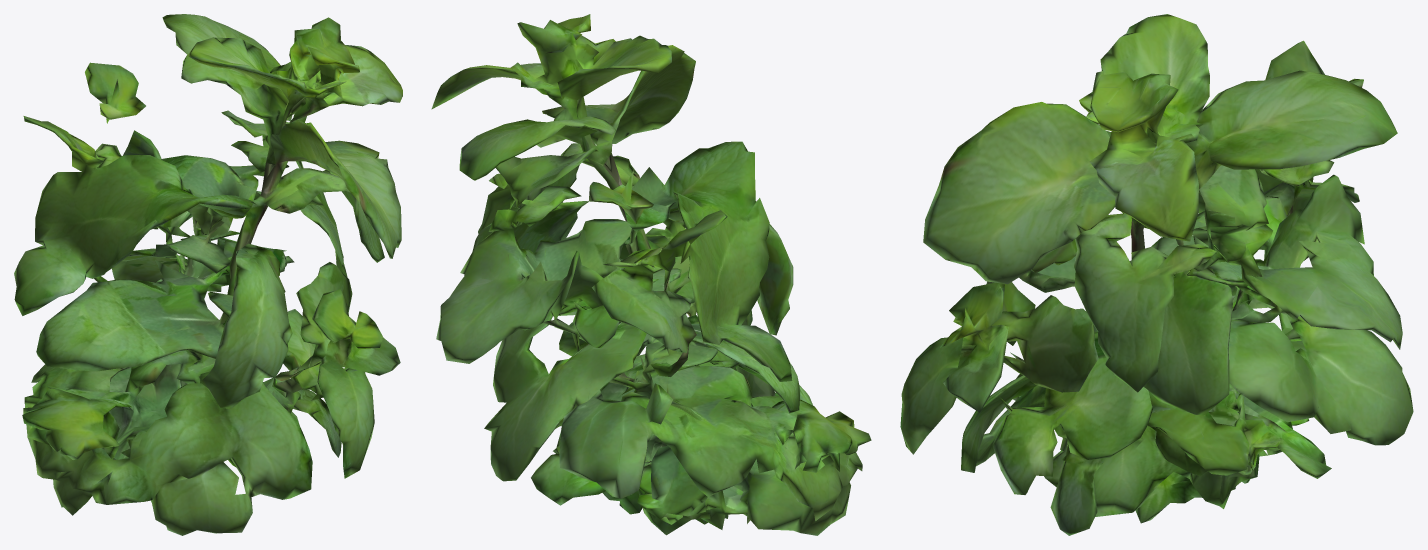
File: peppermint.glb
The picture shows the model from 3 angles, left to right: view 1: azimuth 30°, elevation 25°; view 2: azimuth 150°, elevation 25°; view 3: azimuth 270°, elevation 25°; orthographic projection. The views are drawn at different scales.
Parts seen in each view (by area): view 1: Object_4; view 2: Object_4; view 3: Object_4.
Part boxes in pixels (x1,y1,x2,y2): Object_4: [14, 14, 402, 535]; Object_4: [431, 14, 871, 535]; Object_4: [900, 14, 1413, 535].
Bounding box in the file's own units: 1.92 × 2.01 × 1.91.
Materials: 1 (1 with a texture image).
